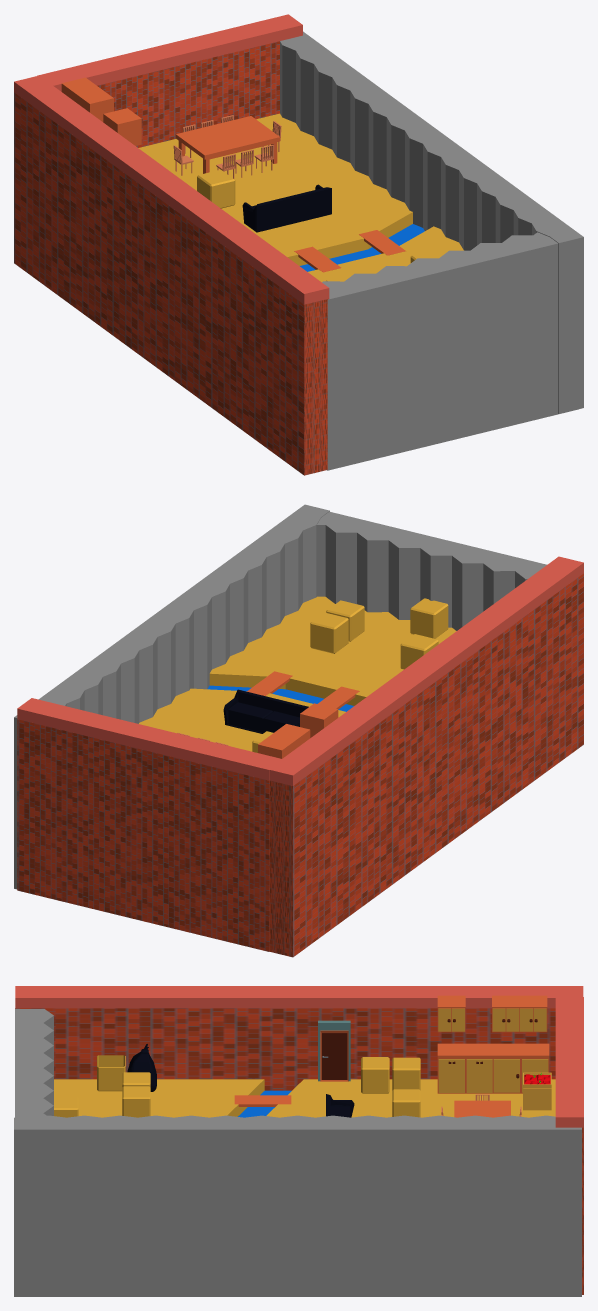
File: Lev3.fbx
3 views of the same model, one above another, from view 1: azimuth 30°, elevation 25°; view 2: azimuth 150°, elevation 25°; view 3: azimuth 270°, elevation 25° (orthographic). The views are drawn at different scales.
Visible parts, largest first — view 1: Cube.040, Cube.042, Cube.041, Cube.033, Cube.043, Cube.046, Cube.047, Table1x3.001, Cube.038, Box1.018, Cub2, Cube.037 (+3 smaller); view 2: Cube.040, Cube.043, Cube.041, Cube.042, Cube.033, Cube.046, Cube.047, Cube.038, Box1.013, Box1.019, Cub2, Box1.012 (+4 smaller); view 3: Cube.041, Cube.040, Cube.046, Cube.033, Cube.042, Cube.047, Cub3.001, Door.002, Cub1, Cub3, Cube.045, Cub2 (+16 smaller).
Boxes of the visible parts, box(x1,y1,x2,y2) form: Cube.040: box(14, 92, 328, 475); Cube.042: box(322, 232, 578, 470); Cube.041: box(280, 31, 583, 413); Cube.033: box(138, 113, 463, 282); Cube.043: box(97, 41, 279, 147); Cube.046: box(14, 76, 329, 304); Cube.047: box(37, 14, 302, 91); Table1x3.001: box(175, 116, 280, 173); Cube.038: box(242, 184, 331, 232); Box1.018: box(197, 169, 235, 208); Cub2: box(103, 108, 141, 145); Cube.037: box(300, 224, 424, 271); Cube.040: box(269, 573, 583, 957); Cube.043: box(17, 719, 269, 951); Cube.041: box(14, 504, 329, 889); Cube.042: box(317, 511, 546, 630); Cube.033: box(139, 596, 456, 751); Cube.046: box(269, 556, 583, 785); Cube.047: box(17, 698, 283, 780); Cube.038: box(223, 689, 308, 733); Box1.013: box(310, 612, 348, 653); Box1.019: box(410, 598, 448, 638); Cub2: box(300, 703, 338, 737); Box1.012: box(326, 600, 364, 641); Cube.041: box(14, 1115, 581, 1296); Cube.040: box(15, 1008, 555, 1090); Cube.046: box(15, 986, 583, 1008); Cube.033: box(54, 1079, 555, 1117); Cube.042: box(15, 1008, 53, 1117); Cube.047: box(555, 997, 583, 1127); Cub3.001: box(437, 1043, 466, 1093); Door.002: box(320, 1030, 348, 1081); Cub1: box(492, 1043, 521, 1093); Cub3: box(465, 1043, 493, 1093); Cube.045: box(523, 1072, 551, 1110); Cub2: box(437, 995, 465, 1032).
Size of the model in its own units: 2221 by 1420 by 4014.
